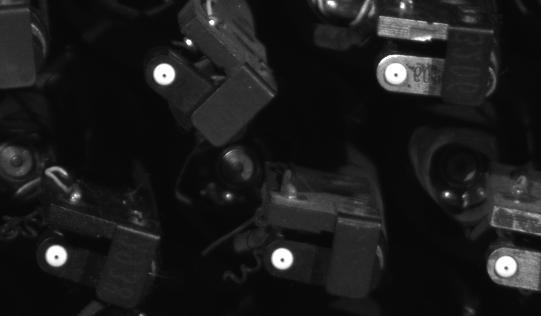fiber: (264, 244, 299, 276), (149, 60, 180, 89), (492, 251, 521, 282), (381, 61, 413, 89), (43, 240, 72, 270)
